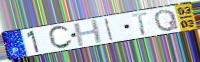1: (27, 29, 42, 54)
C: (47, 25, 74, 50)
H: (73, 18, 105, 48)
I: (104, 17, 115, 42)
Q: (153, 8, 181, 33)
T: (130, 11, 150, 37)
